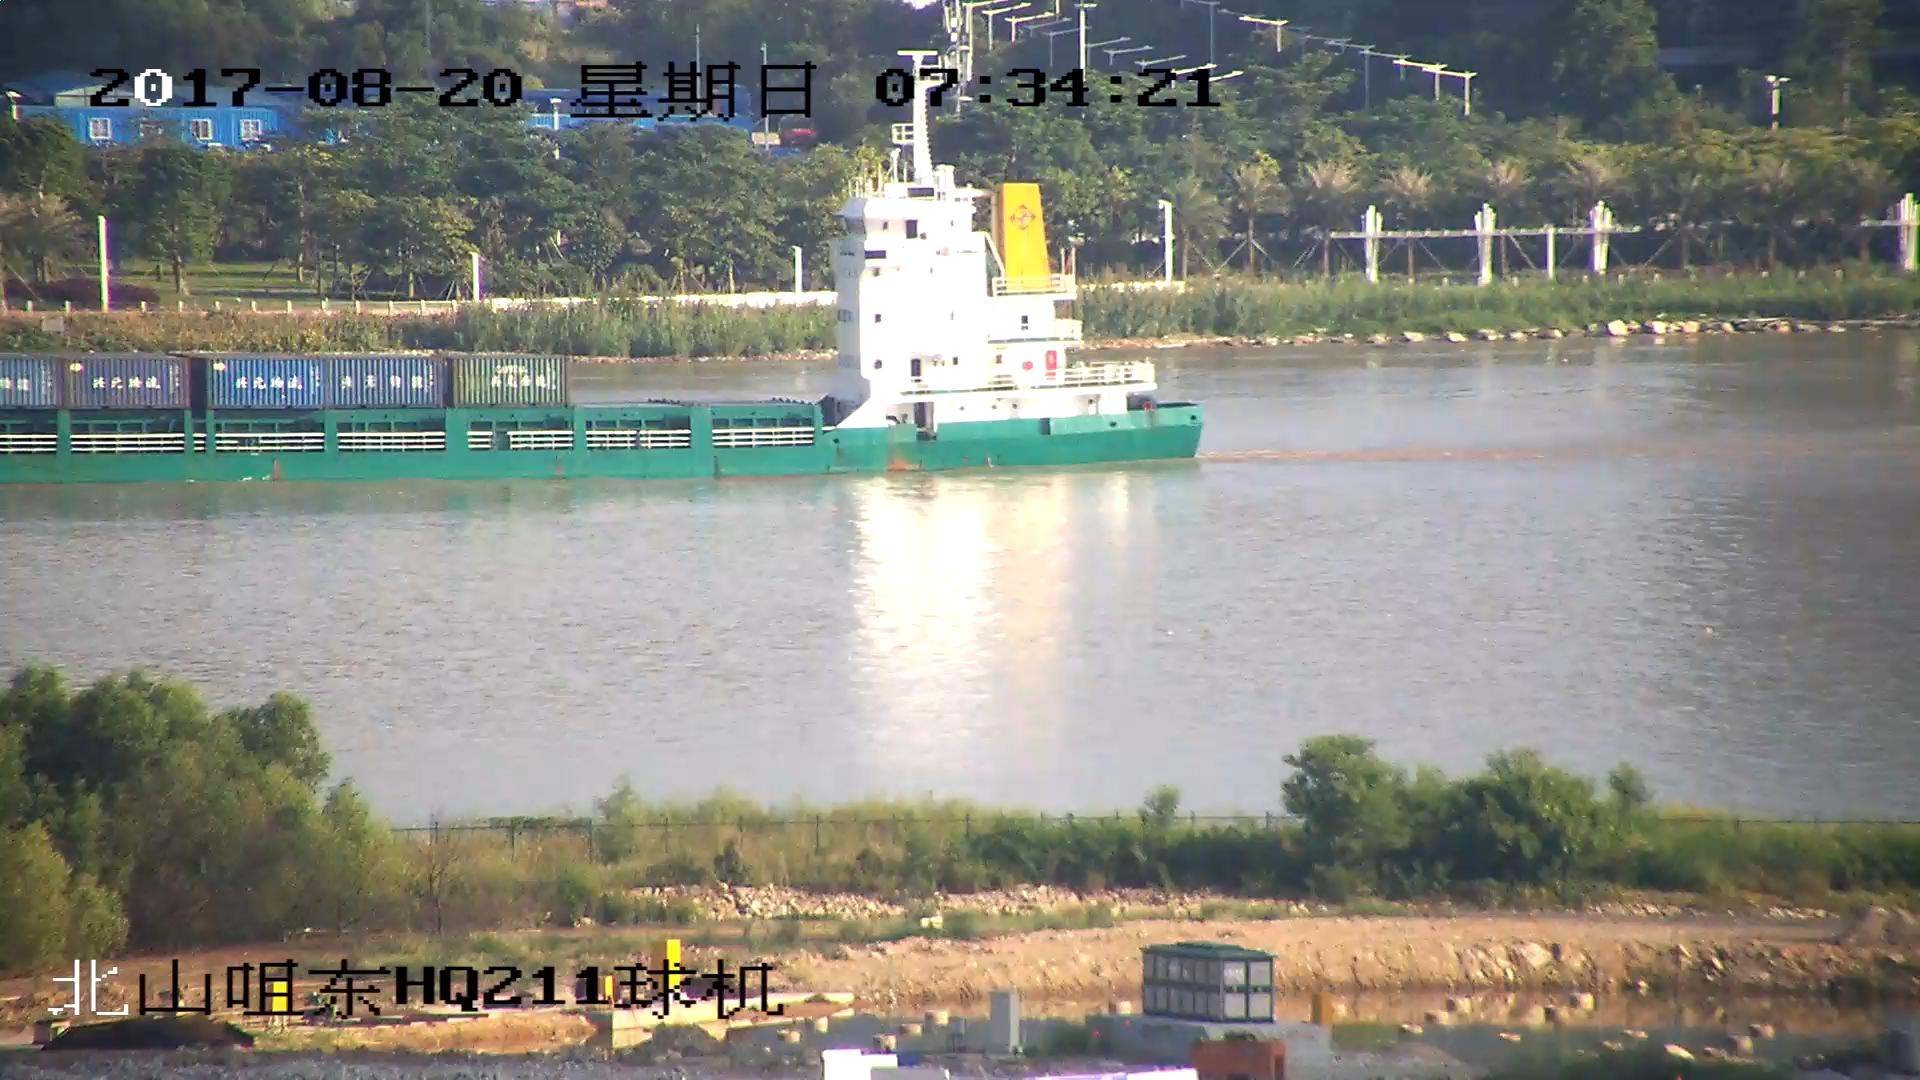general cargo ship: (1, 121, 1202, 483)
